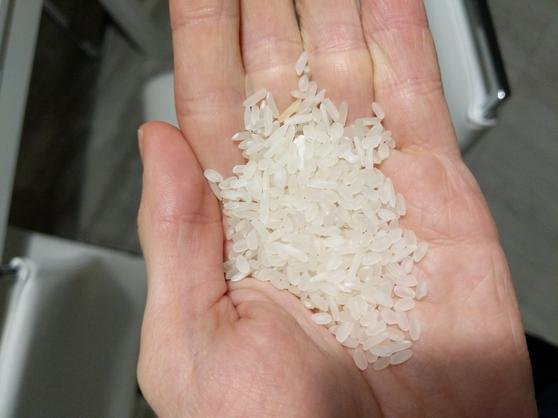rice: (196, 44, 434, 384)
